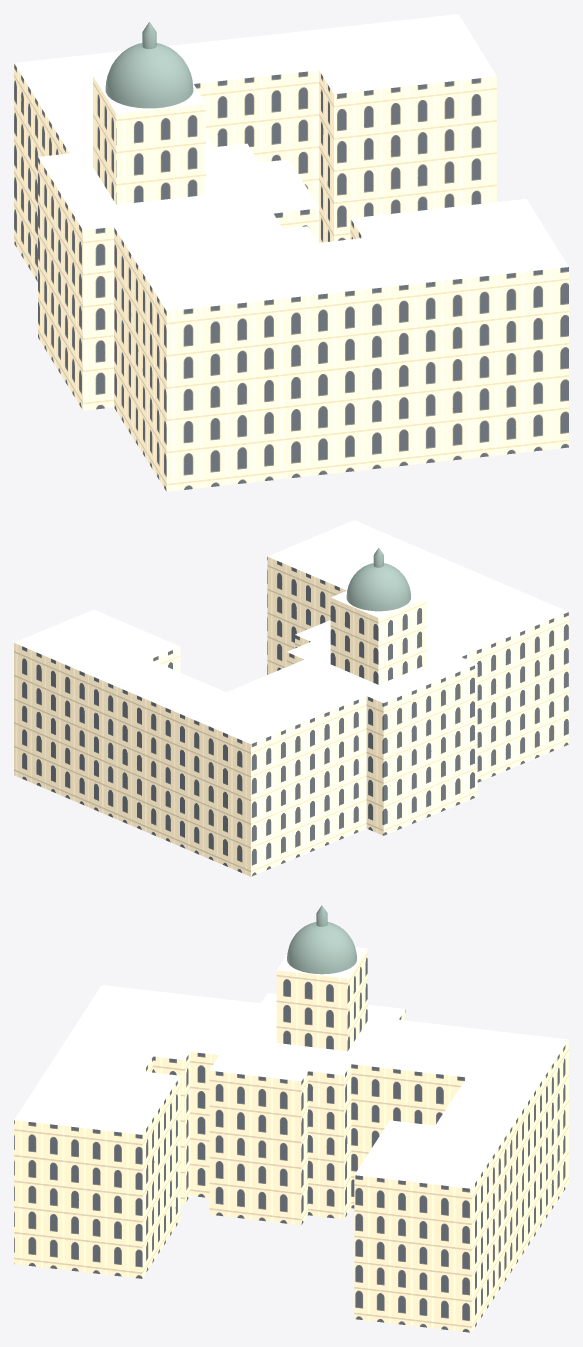
Rendered from landmark-baku-city-hall.glb.
3 views of the same model, one above another, from view 1: azimuth 30°, elevation 25°; view 2: azimuth 150°, elevation 25°; view 3: azimuth 270°, elevation 25° (orthographic). The views are drawn at different scales.
Visible parts, largest first — view 1: baku-city-hall; view 2: baku-city-hall; view 3: baku-city-hall.
Boxes of the visible parts, <box> form: baku-city-hall: <box>14,14,568,491</box>; baku-city-hall: <box>14,520,568,876</box>; baku-city-hall: <box>14,905,568,1332</box>.
Size of the model in its own units: 78.28 by 48.47 by 90.06.
Materials: 3 (1 with a texture image).
